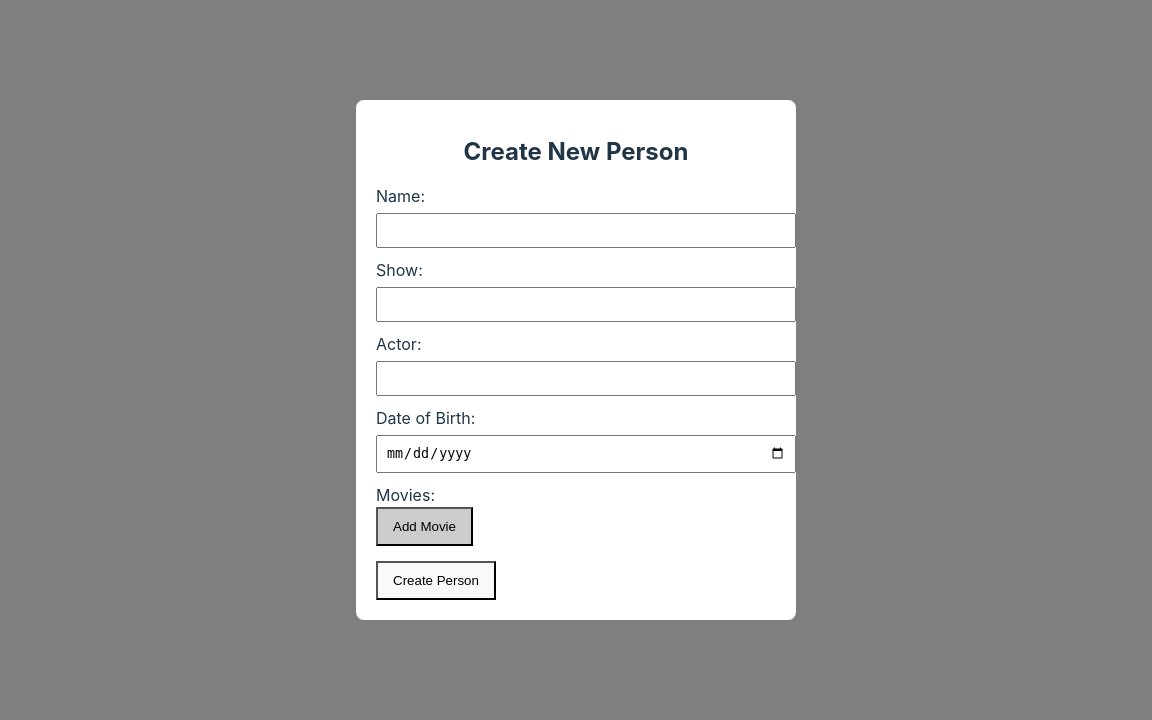
it: CreatePerson Component › fills out form and submits
Expected: the heading "Create New Person" is shown, [464,137,688,166]
Fill out form fields
Type "John Doe" into the field labelled "Name:".
click(586, 231); type("John Doe")  # box [376,213,796,248]
Type "Show 1" into the field labelled "Show:".
click(586, 305); type("Show 1")  # box [376,287,796,322]
Type "Actor" into the field labelled "Actor:".
click(586, 379); type("Actor")  # box [376,361,796,396]
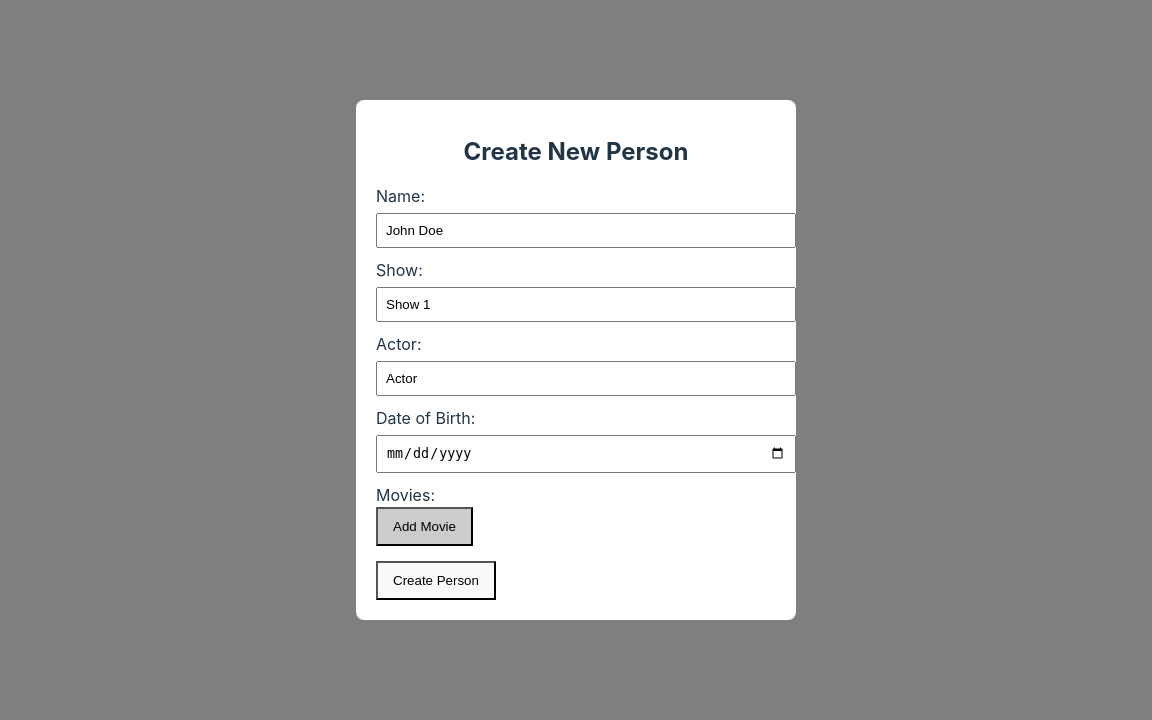
Type "1990-01-01" into the date field labelled "Date of Birth:".
click(586, 454); type("1990-01-01")  # box [376,435,796,472]
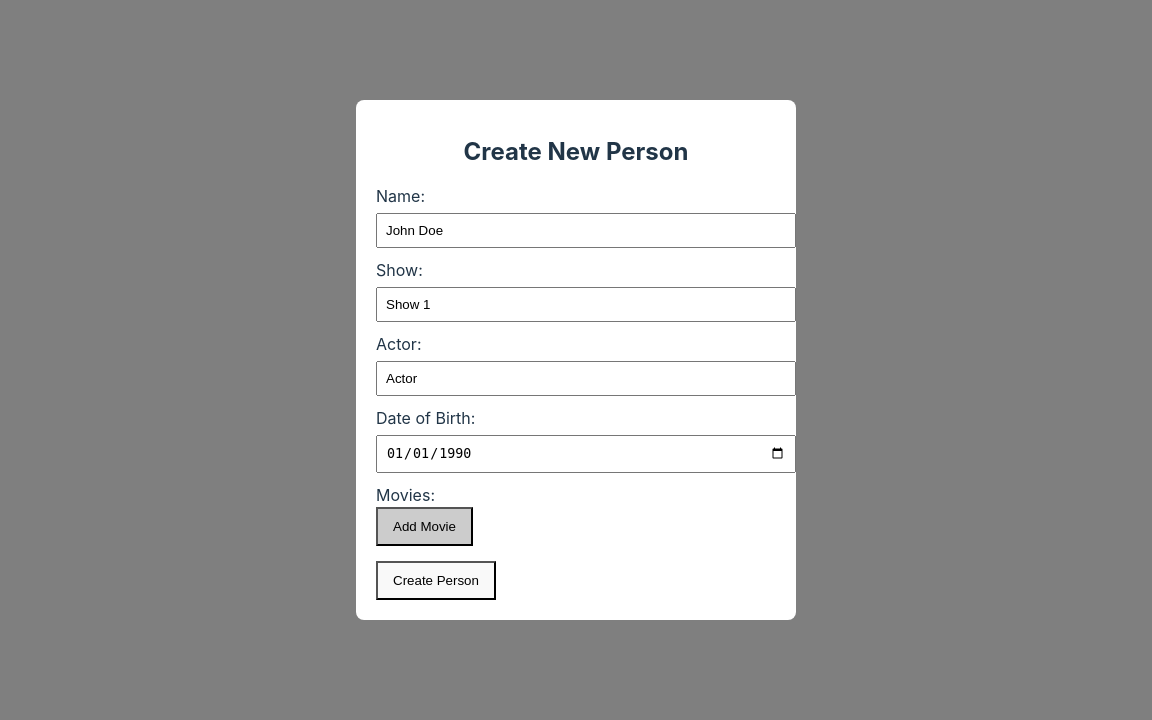
Add a movie
Click the button "Add Movie".
click(424, 526)  # box [376,507,473,546]
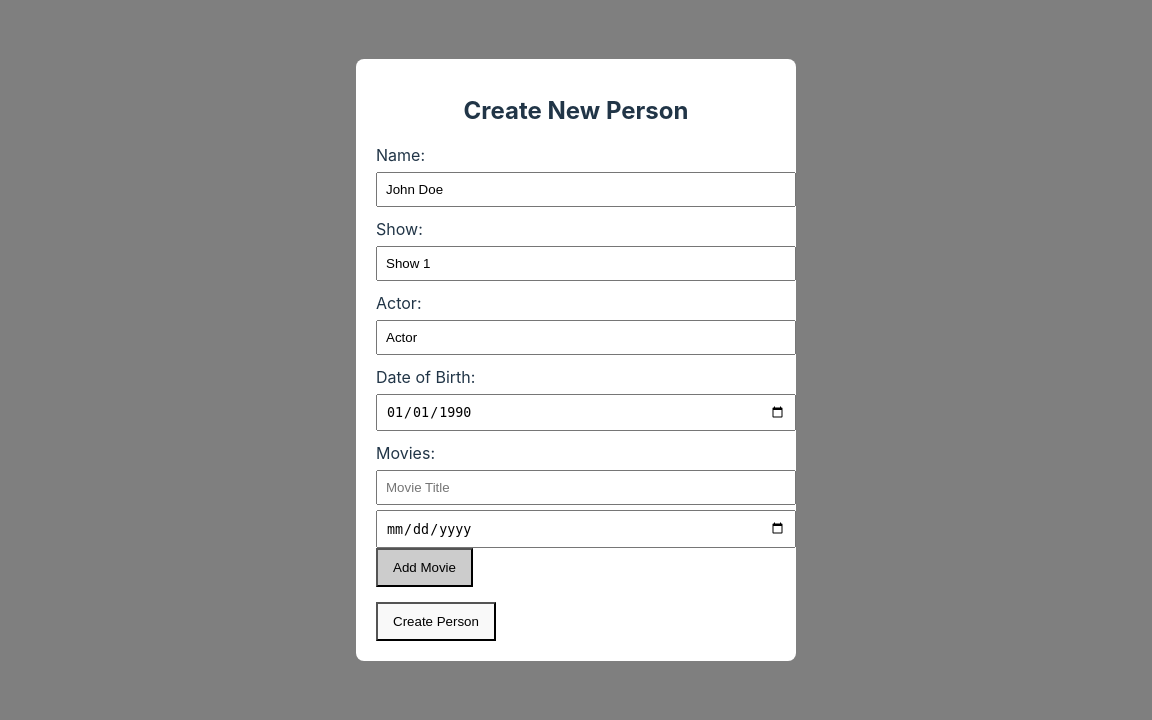
Type "Movie 1" into the field with placeholder "Movie Title".
click(586, 488); type("Movie 1")  # box [376,470,796,505]
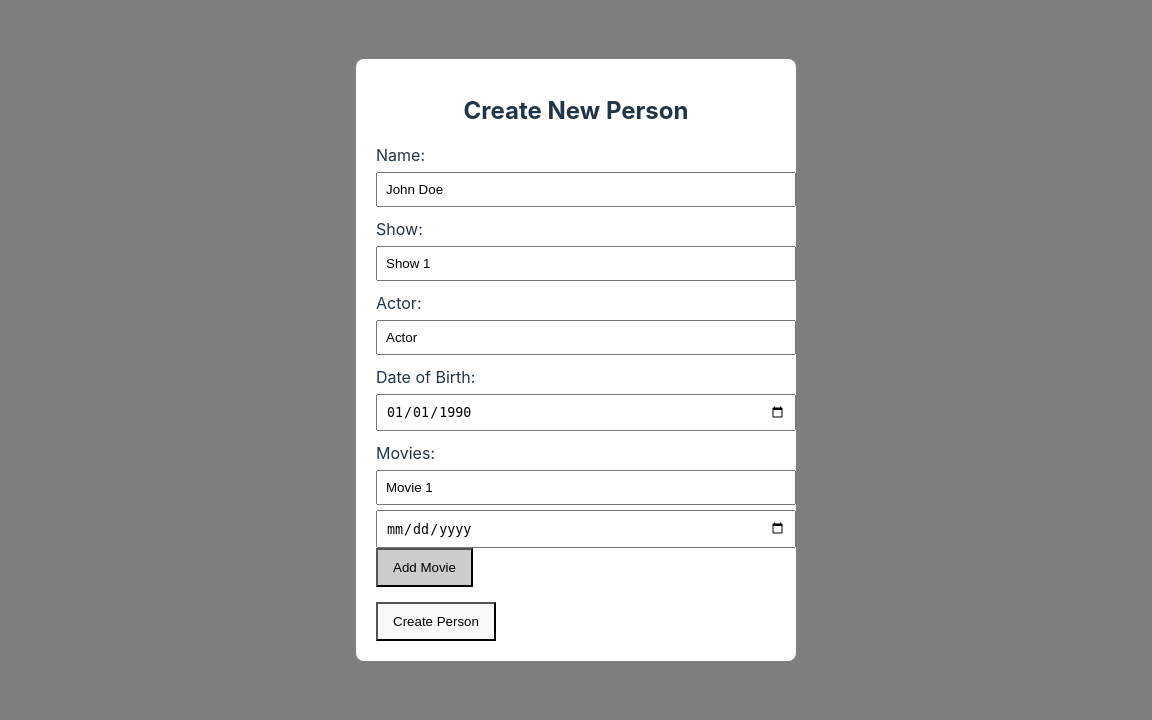
Type "2020-12-01" into the date field with placeholder "Release Date".
click(586, 529); type("2020-12-01")  # box [376,510,796,548]
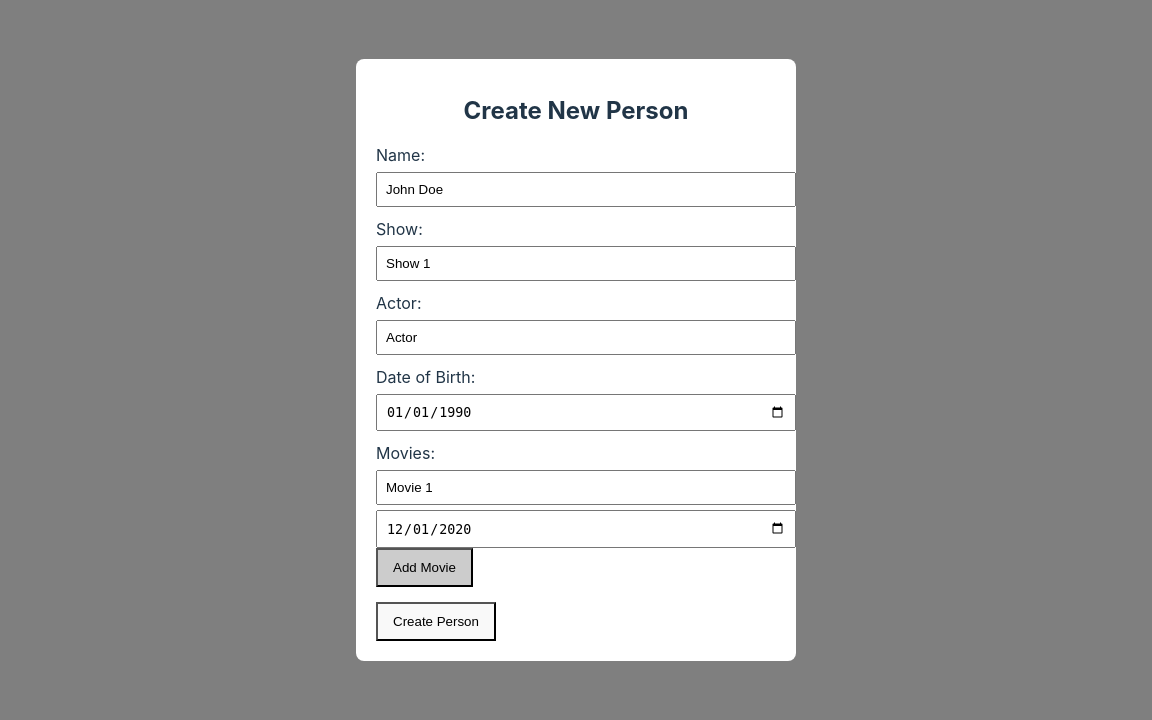
Submit the form
Click the button "Create Person".
click(436, 621)  # box [376,602,496,641]
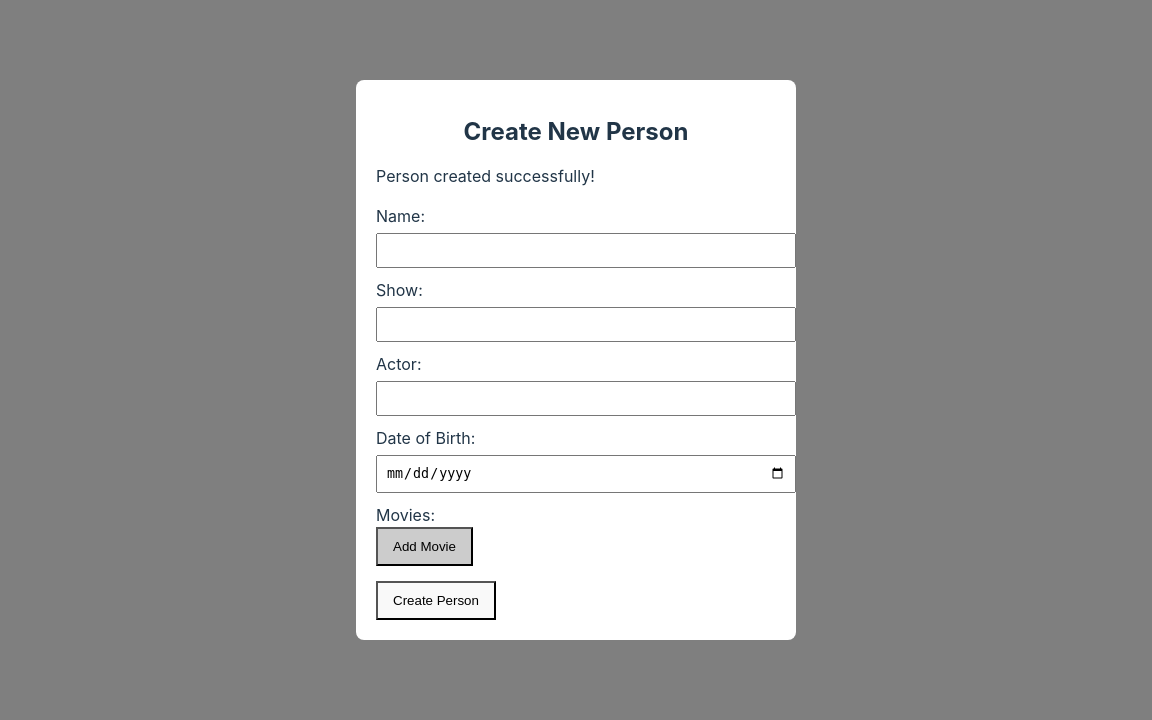
Expected: the text "Person created successfully!" is shown, [376,166,595,186]
